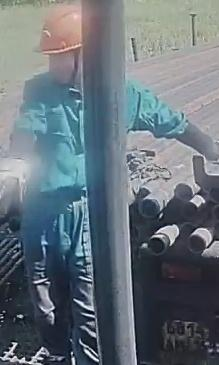gloves: (0, 144, 33, 222), (203, 129, 219, 169)
helmet: (35, 6, 83, 55)
vest: (9, 74, 86, 213)
